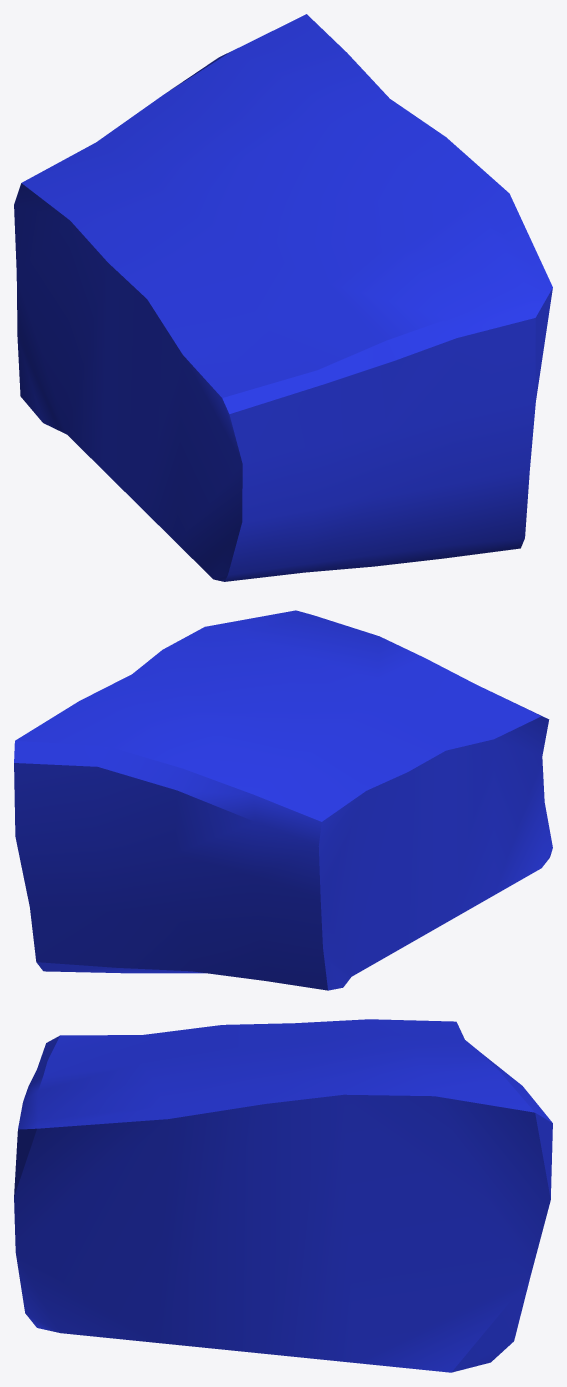
Rendered from veal_n4.2_low.fbx.
3 views of the same model, one above another, from view 1: azimuth 30°, elevation 25°; view 2: azimuth 150°, elevation 25°; view 3: azimuth 270°, elevation 25° (orthographic). The views are drawn at different scales.
Visible parts, largest first — view 1: veal__n4.2_low; view 2: veal__n4.2_low; view 3: veal__n4.2_low.
Part boxes in pixels (x1,y1,x2,y2): veal__n4.2_low: (14,14,552,581); veal__n4.2_low: (14,610,552,990); veal__n4.2_low: (14,1019,552,1372).
Size of the model in its own units: 7.7 by 6.24 by 11.41.
